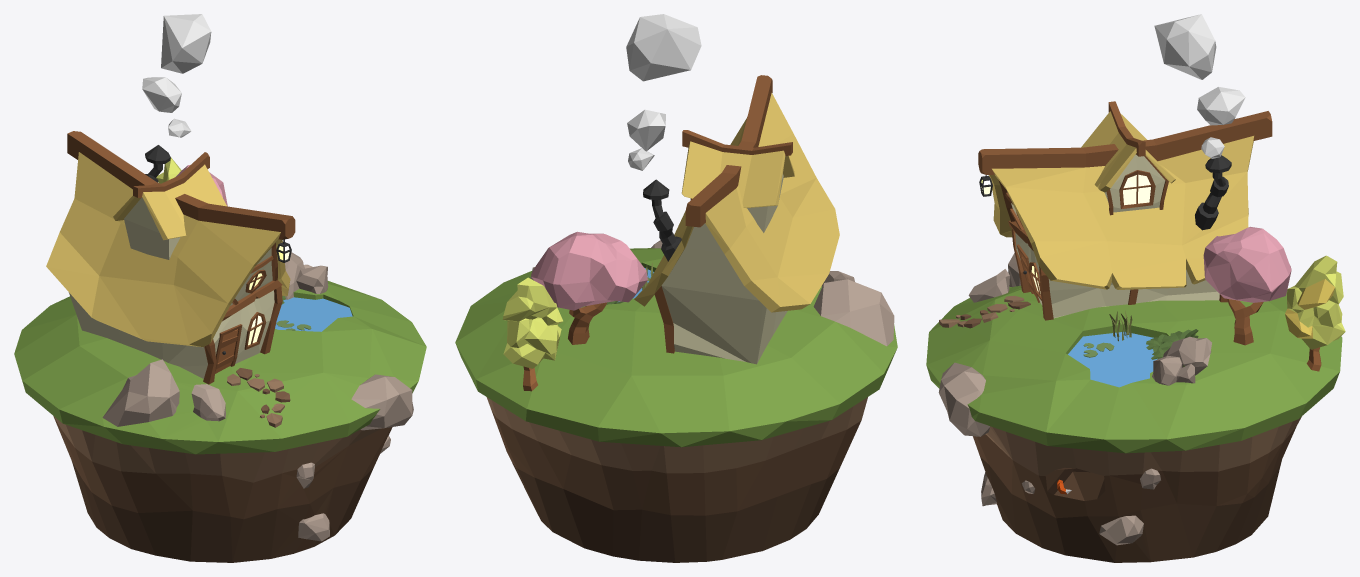
Rendered from cottage.gltf.
3 renders of one model, left to right at view 1: azimuth 30°, elevation 25°; view 2: azimuth 150°, elevation 25°; view 3: azimuth 270°, elevation 25°, orthographic. The views are drawn at different scales.
Visible parts, largest first — view 1: Island, Cottage, Loft, Cloud3, Cloud2; view 2: Island, Cottage, TreePink, Loft, TreeGreen, Cloud3, Cloud2; view 3: Island, Cottage, TreePink, Loft, TreeGreen, Cloud3, Cloud2, Plant.
Boxes of the visible parts, <box> form: Island: <box>14,252,426,562</box>; Cottage: <box>46,131,295,384</box>; Loft: <box>113,152,226,259</box>; Cloud3: <box>161,14,211,73</box>; Cloud2: <box>142,77,181,112</box>; Island: <box>455,240,897,562</box>; Cottage: <box>634,75,839,364</box>; TreePink: <box>531,231,647,344</box>; Loft: <box>681,130,794,232</box>; TreeGreen: <box>502,277,563,391</box>; Cloud3: <box>626,14,701,81</box>; Cloud2: <box>627,109,665,151</box>; Island: <box>926,253,1342,562</box>; Cottage: <box>978,111,1272,320</box>; TreePink: <box>1203,226,1291,345</box>; Loft: <box>1081,101,1175,215</box>; TreeGreen: <box>1285,255,1345,371</box>; Cloud3: <box>1154,14,1216,79</box>; Cloud2: <box>1197,86,1245,125</box>; Plant: <box>1146,329,1198,359</box>.
Bounding box in the file's own units: 7.69 × 9.8 × 7.75.
